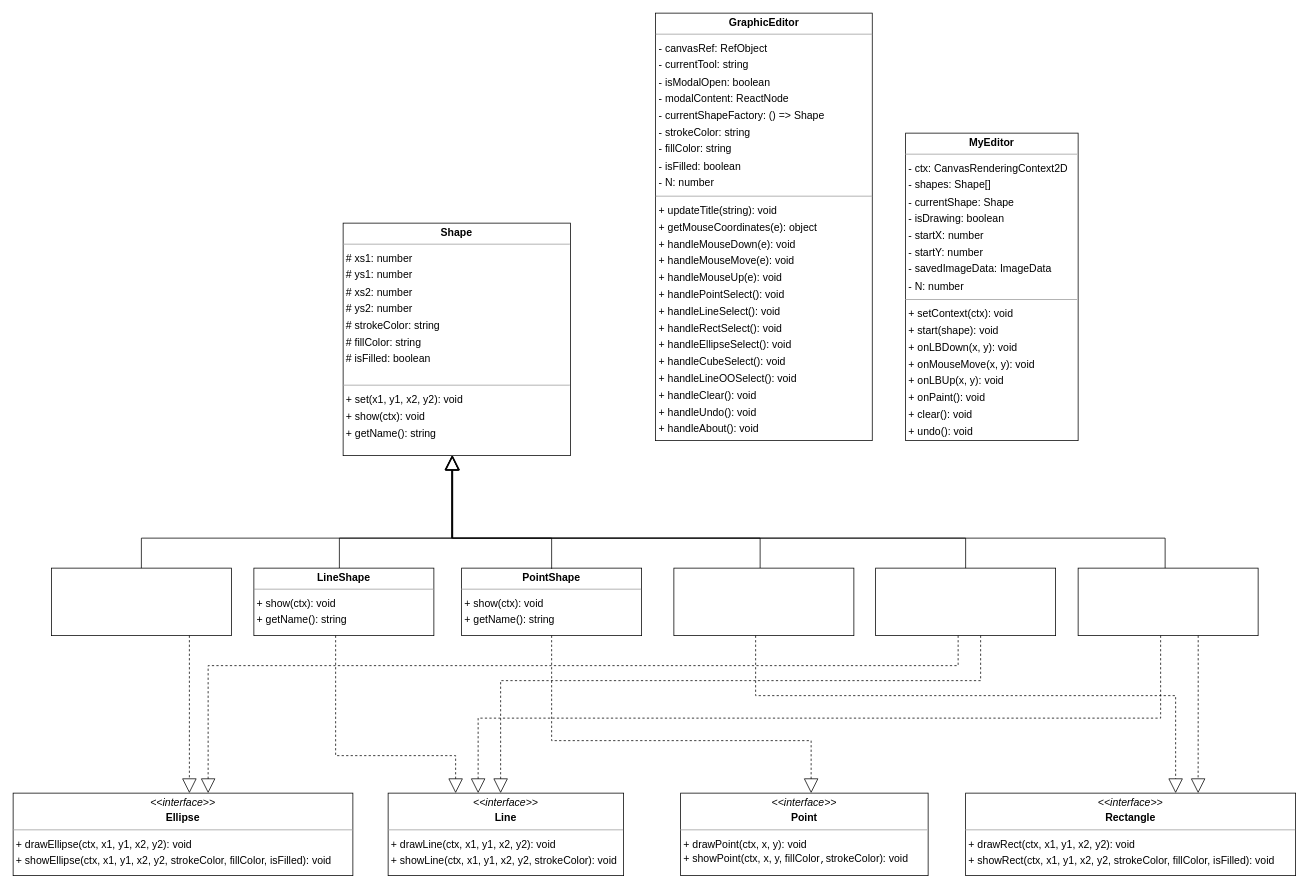
The diagram is 1309 pixels wide and 895 high, and some of its shapes have lost their labels. Each missing label, with the centre of its shape:
CubeShape + show(ctx): void + getName(): string: point (1167, 601)
EllipseShape + show(ctx): void + getName(): string: point (141, 601)
LineOOShape + show(ctx): void + getName(): string: point (965, 601)
RectangleShape + show(ctx): void + getName(): string: point (763, 601)
